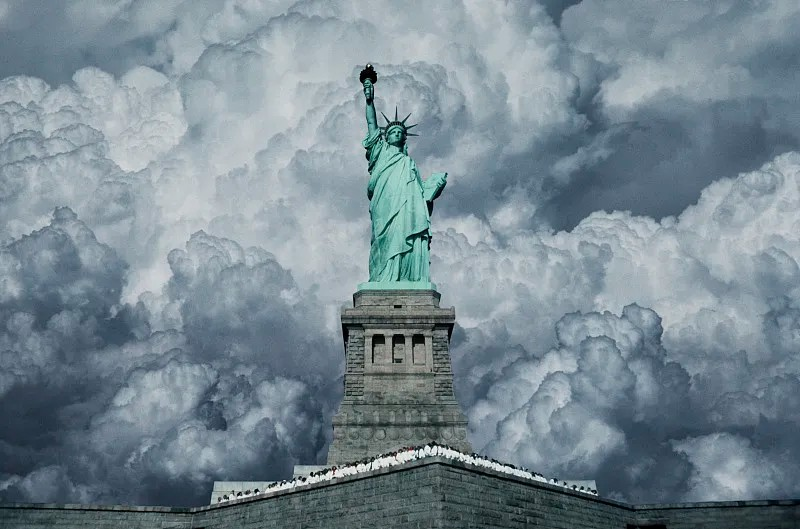SL: (327, 62, 472, 462)
